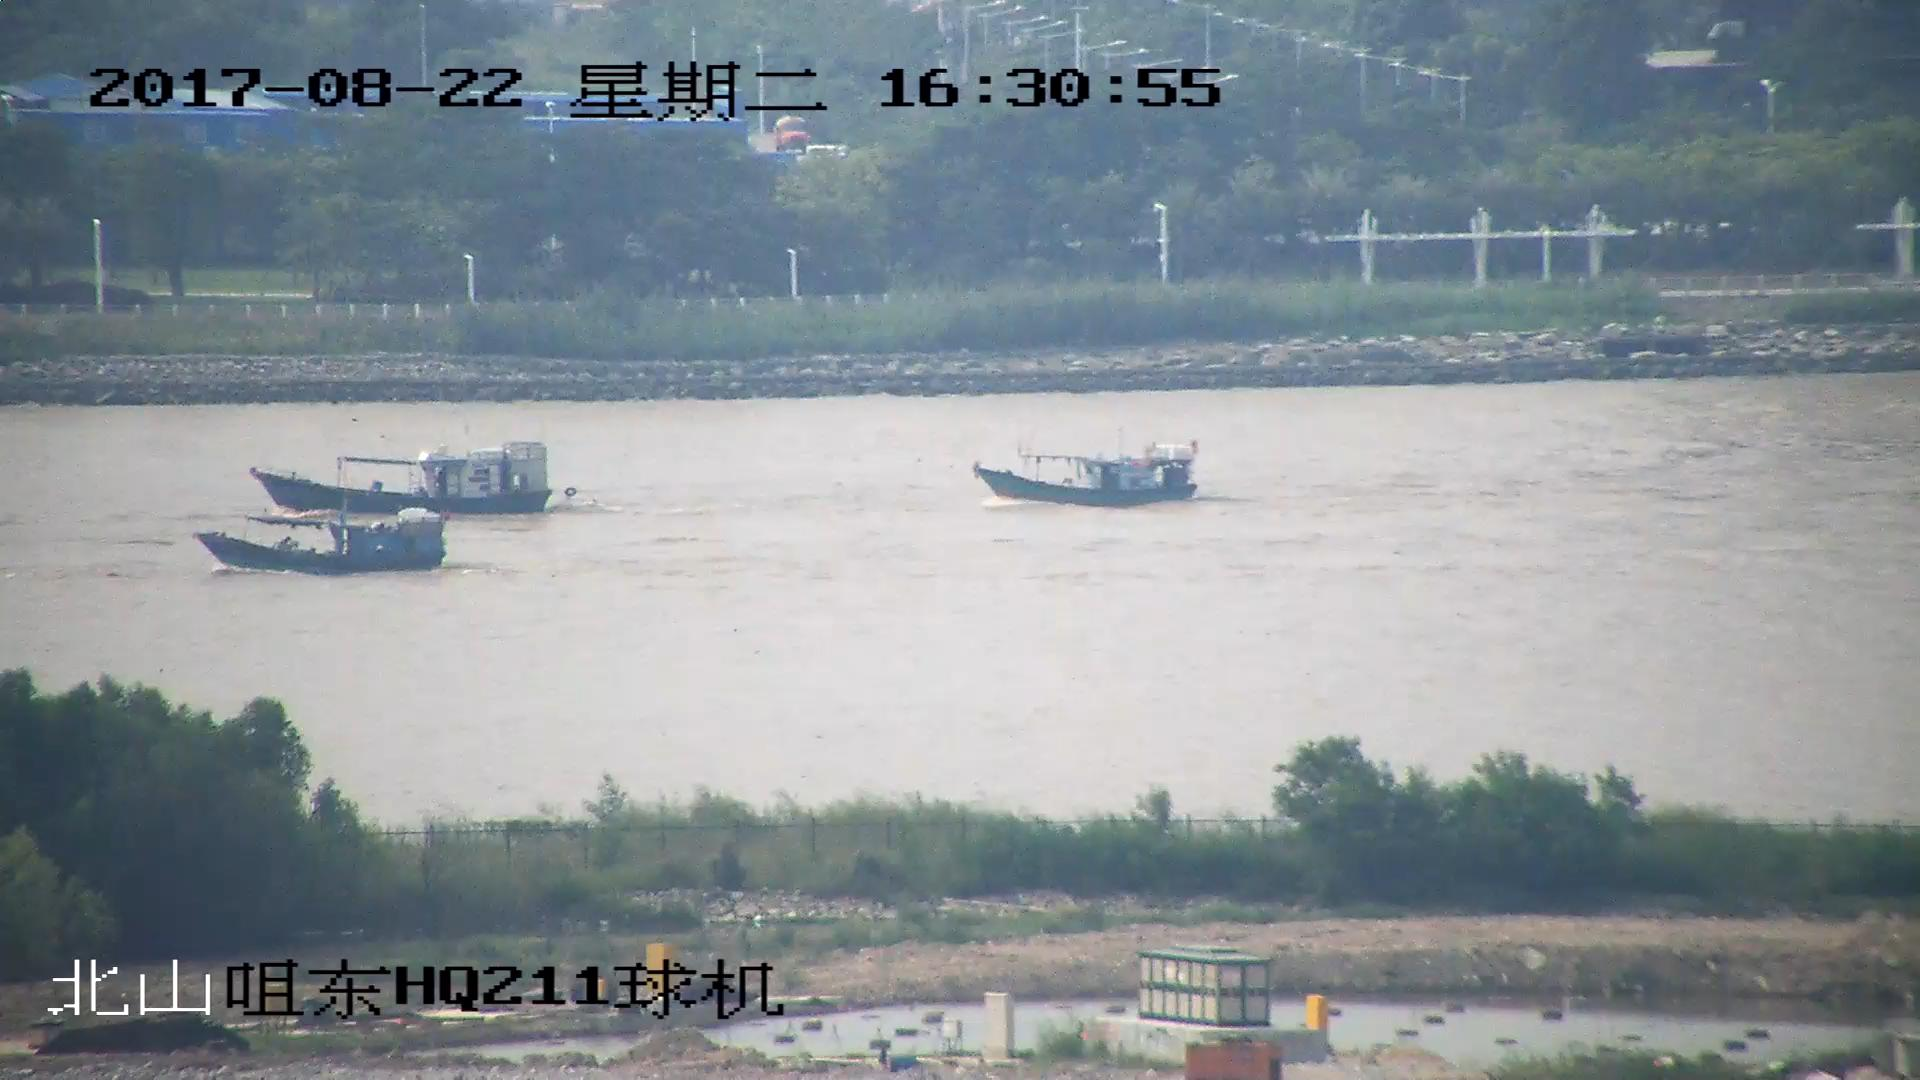fishing boat: (246, 437, 551, 514), (199, 510, 444, 574), (978, 441, 1197, 510)
